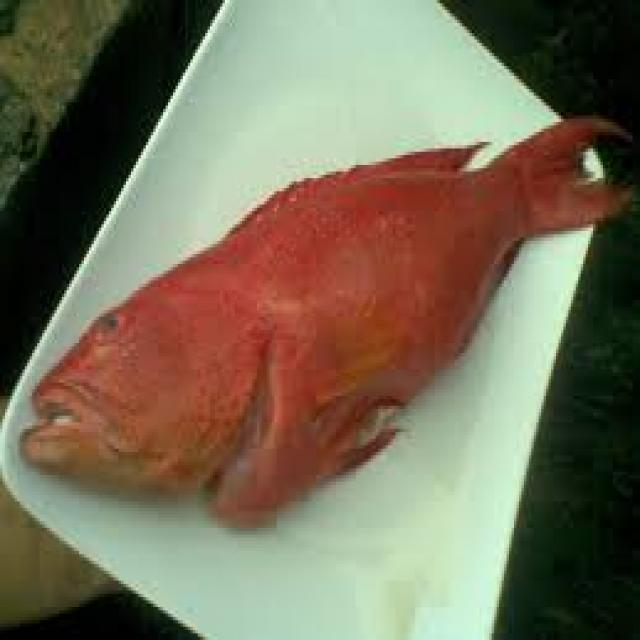Plectropomus-leopardus: (22, 114, 640, 494)
